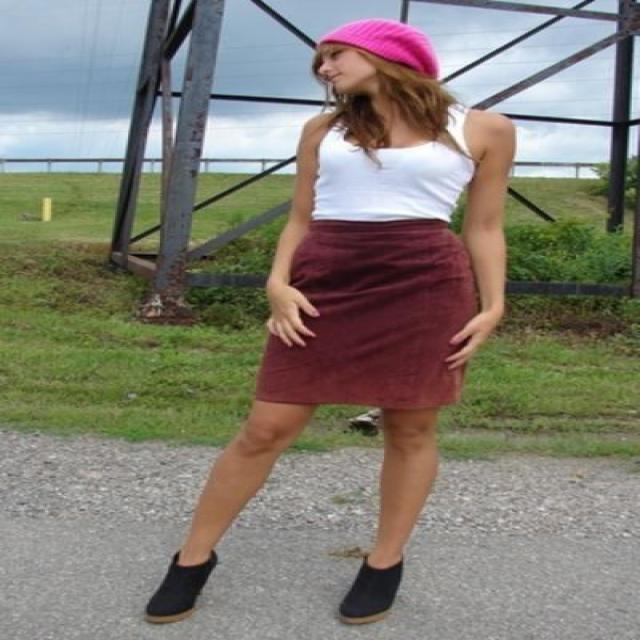hat: (317, 21, 435, 63)
shirt: (312, 108, 478, 221)
shoe: (146, 550, 402, 616)
skirt: (256, 218, 482, 412)
